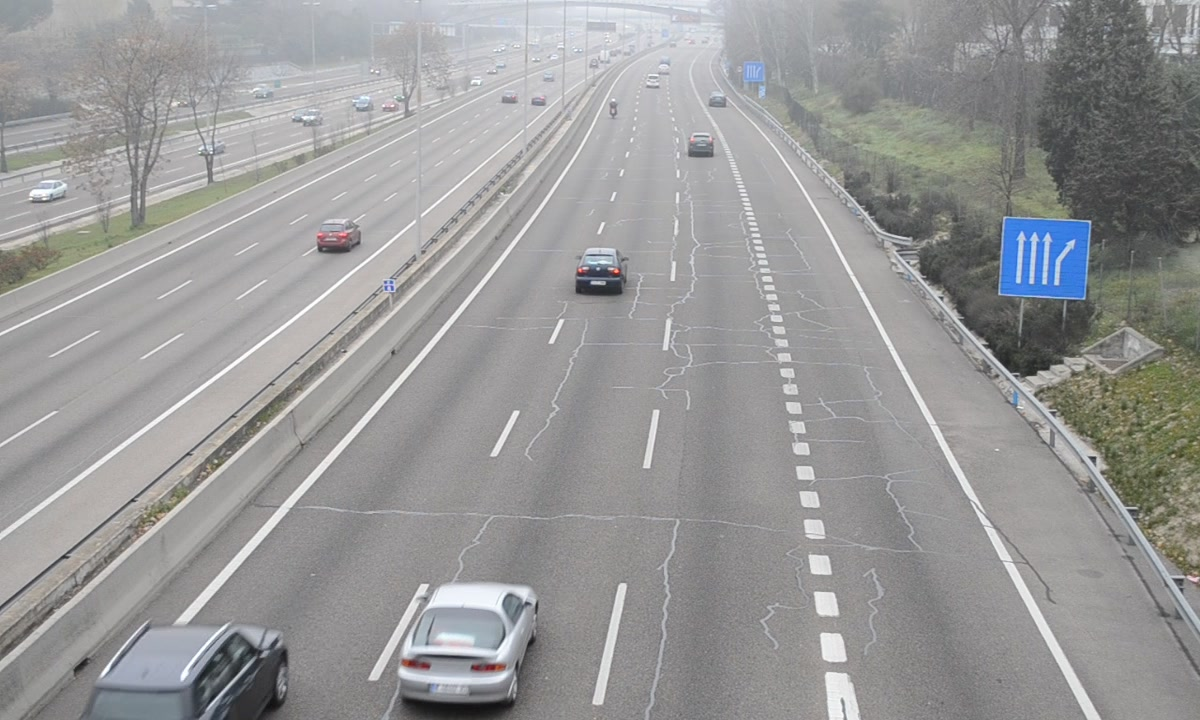car: (84, 623, 287, 720), (393, 585, 540, 706), (575, 249, 628, 297), (689, 131, 715, 158)
motorcycle: (609, 98, 619, 120)
